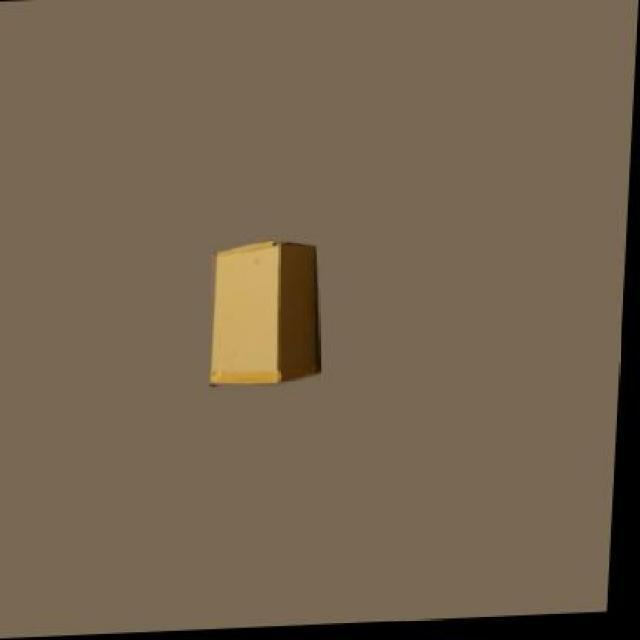box: (212, 242, 323, 386)
